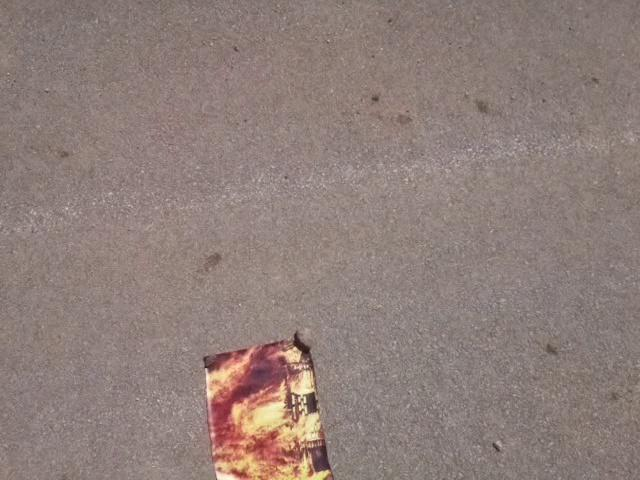fire-poster: (200, 328, 337, 479)
